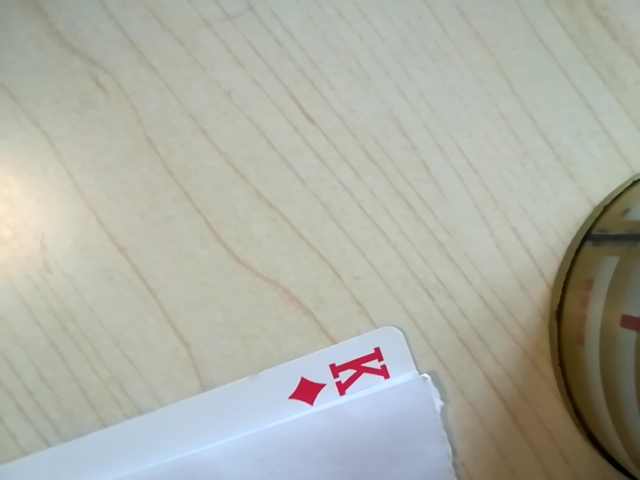fk k: (275, 347, 404, 413)
